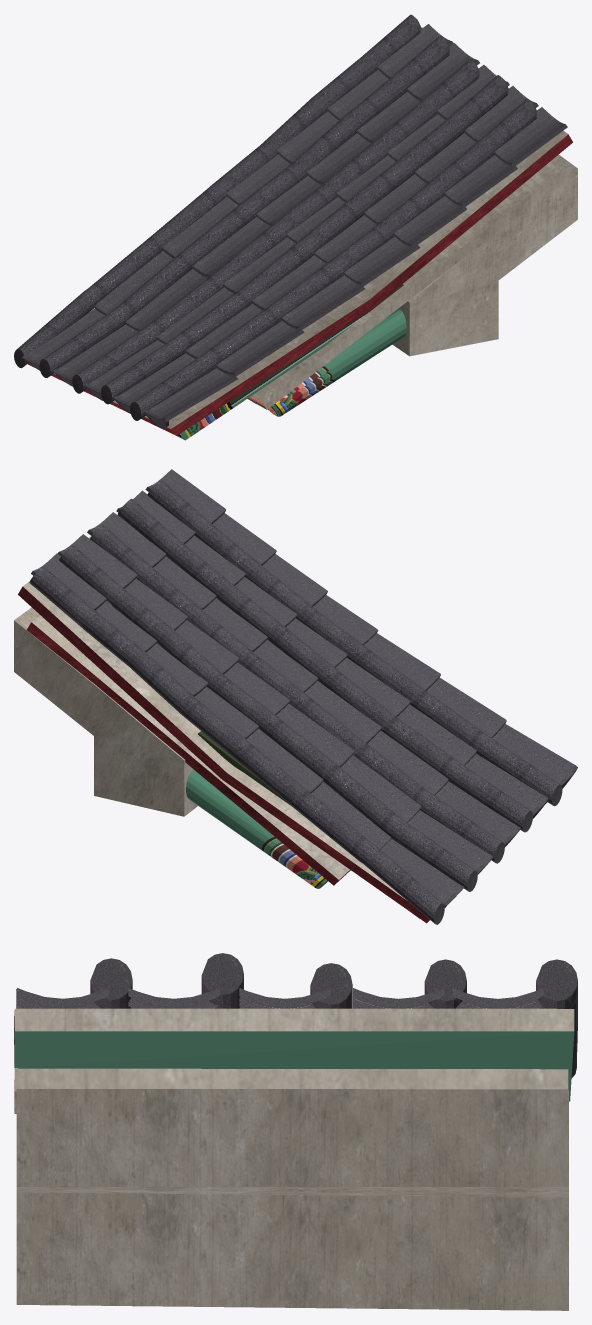
File: SM_Roof_5.fbx
3 renders of one model, top to bottom at view 1: azimuth 30°, elevation 25°; view 2: azimuth 150°, elevation 25°; view 3: azimuth 270°, elevation 25°, orthographic. The views are drawn at different scales.
Visible parts, largest first — view 1: SM_Roof_5; view 2: SM_Roof_5; view 3: SM_Roof_5.
Boxes of the visible parts, <box> form: SM_Roof_5: <box>14,14,577,440</box>; SM_Roof_5: <box>14,469,577,924</box>; SM_Roof_5: <box>14,953,577,1310</box>.
Bounding box in the file's own units: 432 × 261 × 259.
Materials: 4 (4 with a texture image).
